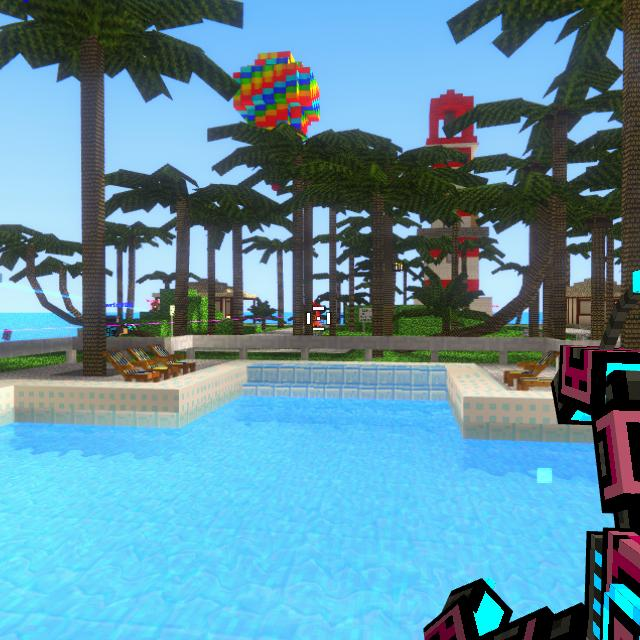Enemy: (149, 301, 160, 312), (313, 310, 320, 327)
